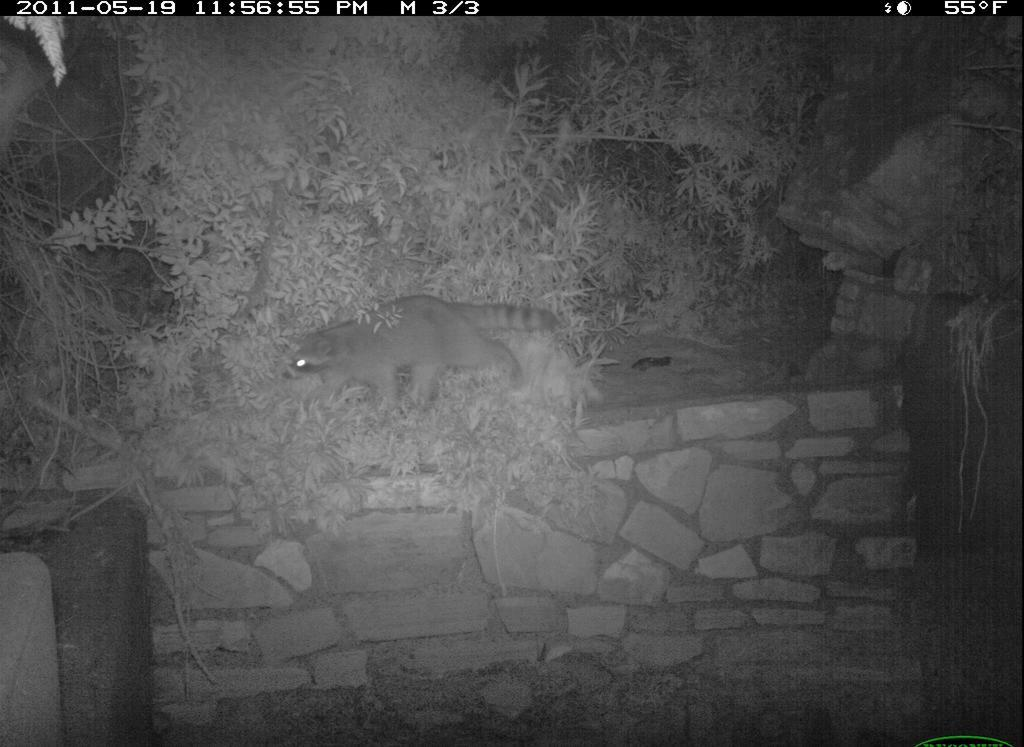raccoon: (283, 287, 577, 422)
